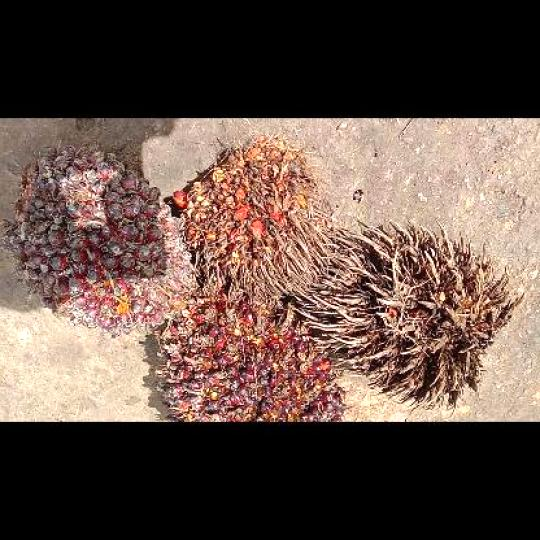kurang masak: (3, 141, 197, 334)
masak: (150, 275, 348, 421)
terlalu masak: (170, 131, 335, 305)
